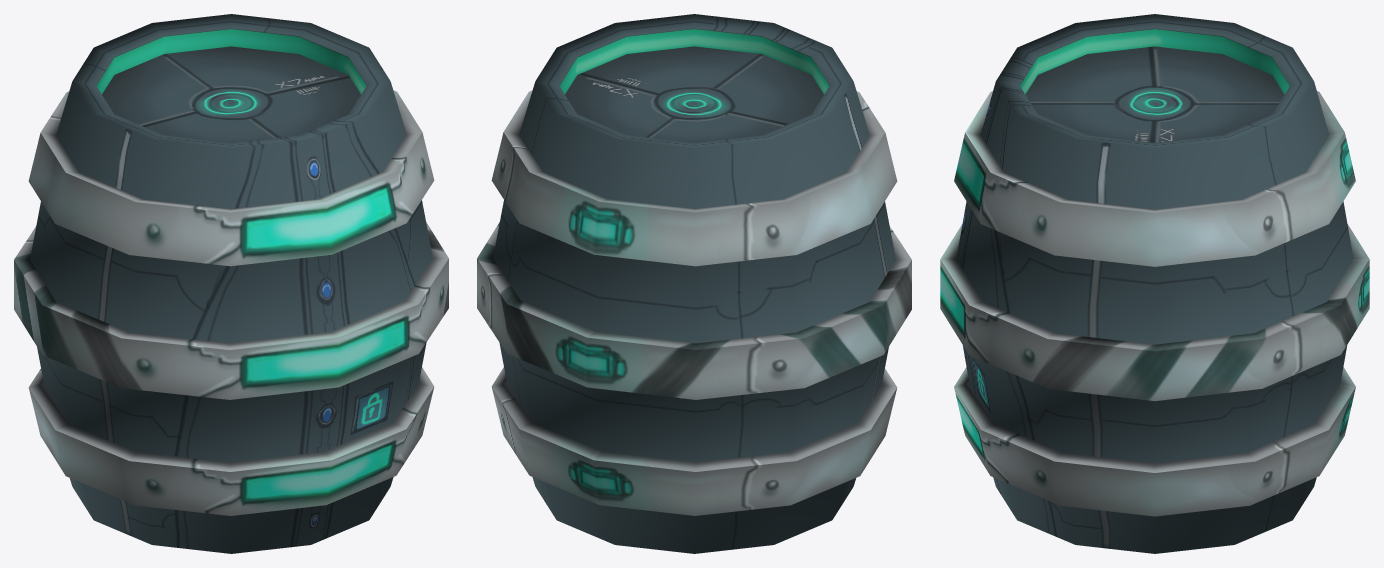
The model's file is Hand_in_BarrelV2.fbx.
3 views of the same model, side by side, from view 1: azimuth 30°, elevation 25°; view 2: azimuth 150°, elevation 25°; view 3: azimuth 270°, elevation 25° (orthographic).
Visible parts, largest first — view 1: pCylinder1; view 2: pCylinder1; view 3: pCylinder1.
Part boxes in pixels (x1,y1,x2,y2): pCylinder1: [14, 14, 448, 553]; pCylinder1: [477, 14, 911, 553]; pCylinder1: [940, 14, 1369, 553].
Size of the model in its own units: 28.39 by 29.07 by 27.89.
Materials: 1 (1 with a texture image).
